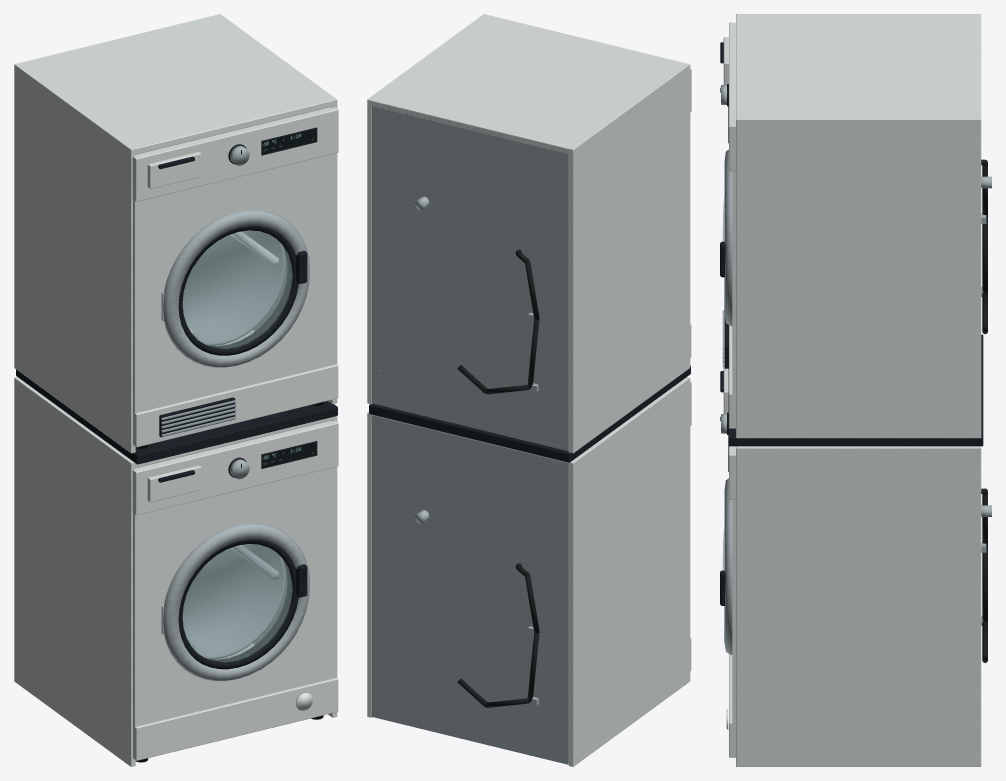
Rendered from stacked-washer-dryer.glb.
3 renders of one model, left to right at view 1: azimuth 30°, elevation 25°; view 2: azimuth 150°, elevation 25°; view 3: azimuth 270°, elevation 25°, orthographic. The views are drawn at different scales.
Visible parts, largest first — view 1: Left folded cabinet panel.001, Left folded cabinet panel, Circular-aperture front facade.001, Circular-aperture front facade, Folded top lid.001, Finite convex door glass.001, Finite convex door glass, Finite stainless drum cylinder.001, Finite stainless drum cylinder, Upper control fascia, Upper control fascia.001, Lower service plinth (+15 smaller); view 2: Rear service enclosure, Rear service enclosure.001, Left folded cabinet panel.001, Left folded cabinet panel, Folded top lid.001, Seated stacking connector, Right folded cabinet panel.001, Right folded cabinet panel, Folded top lid; view 3: Right folded cabinet panel.001, Right folded cabinet panel, Folded top lid.001, Seated stacking connector, Profiled polished door rim.001, Profiled polished door rim, Upper control fascia.001, Circular-aperture front facade.001, Circular-aperture front facade, Lower service plinth, Left folded cabinet panel.001, Lower service plinth.001.
Part boxes in pixels (x1,y1,x2,y2): Left folded cabinet panel.001: [14, 63, 135, 453]; Left folded cabinet panel: [14, 377, 135, 766]; Circular-aperture front facade.001: [133, 153, 336, 425]; Circular-aperture front facade: [133, 466, 336, 739]; Folded top lid.001: [19, 15, 335, 154]; Finite convex door glass.001: [182, 230, 292, 348]; Finite convex door glass: [182, 544, 292, 662]; Finite stainless drum cylinder.001: [183, 230, 285, 345]; Finite stainless drum cylinder: [183, 544, 285, 658]; Upper control fascia: [132, 420, 338, 515]; Upper control fascia.001: [132, 107, 338, 201]; Lower service plinth: [133, 677, 338, 760]; Rear service enclosure: [372, 415, 568, 764]; Rear service enclosure.001: [372, 102, 568, 451]; Left folded cabinet panel.001: [568, 63, 690, 453]; Left folded cabinet panel: [568, 377, 690, 766]; Folded top lid.001: [368, 15, 685, 154]; Seated stacking connector: [369, 365, 690, 462]; Right folded cabinet panel.001: [367, 14, 487, 404]; Right folded cabinet panel: [367, 412, 372, 717]; Folded top lid: [371, 377, 688, 468]; Right folded cabinet panel.001: [736, 117, 981, 438]; Right folded cabinet panel: [736, 446, 981, 766]; Folded top lid.001: [736, 16, 981, 117]; Seated stacking connector: [728, 334, 983, 446]; Profiled polished door rim.001: [724, 149, 732, 326]; Profiled polished door rim: [724, 478, 732, 655]; Upper control fascia.001: [729, 22, 735, 171]; Circular-aperture front facade.001: [732, 171, 735, 407]; Circular-aperture front facade: [732, 500, 735, 723]; Lower service plinth: [729, 654, 735, 757]; Left folded cabinet panel.001: [736, 14, 981, 16]; Lower service plinth.001: [729, 325, 735, 428].
Bounding box in the file's own units: 0.598 × 1.71 × 0.65.
Materials: 6 (6 with a texture image).
